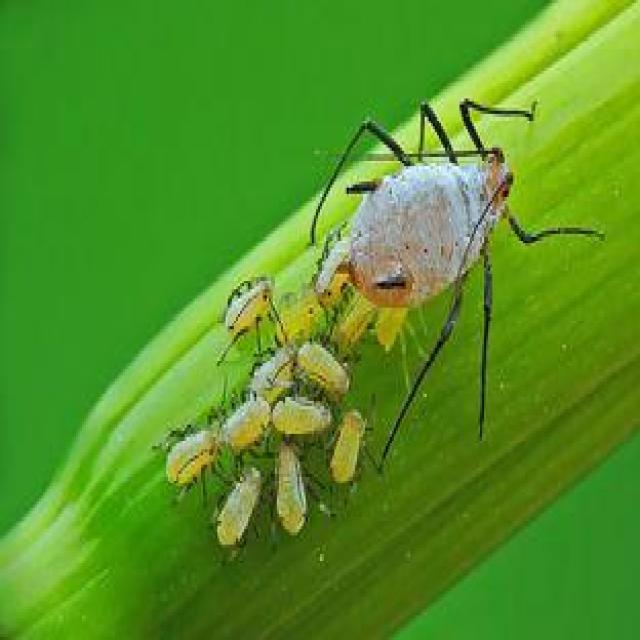Aphids: (327, 84, 610, 453), (258, 438, 334, 549), (157, 389, 235, 496), (212, 447, 272, 555), (260, 377, 340, 448)
